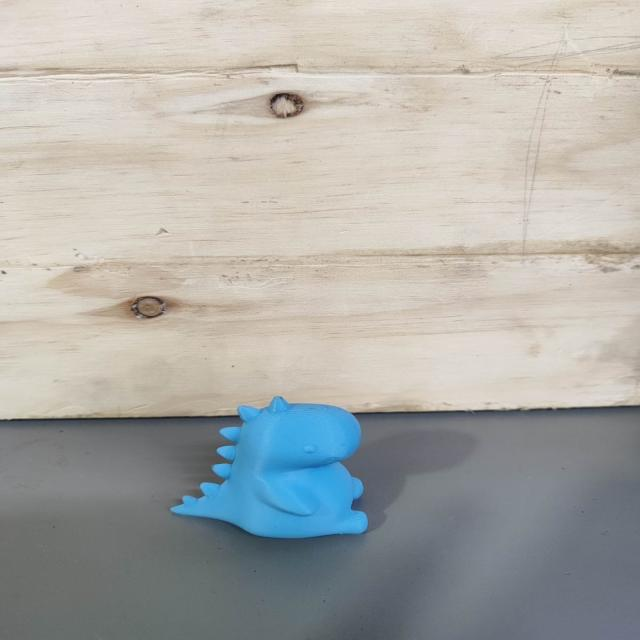DINO: (176, 380, 385, 546)
